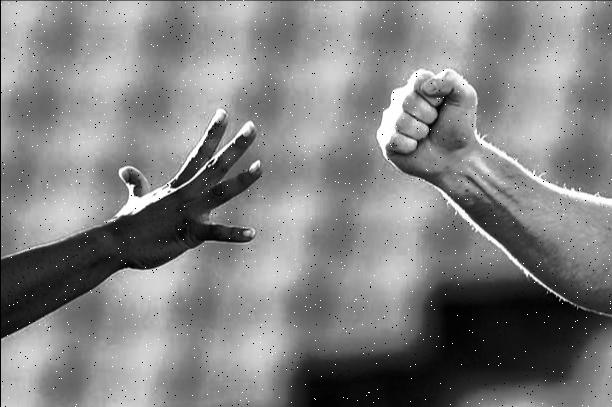Paper: (100, 106, 266, 274)
Rock: (366, 62, 484, 184)
